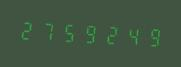five: (59, 18, 79, 46)
four: (122, 21, 142, 49)
nine: (80, 19, 100, 47), (143, 22, 163, 50)
seven: (38, 17, 58, 45)
two: (17, 16, 37, 44), (101, 20, 121, 48)
